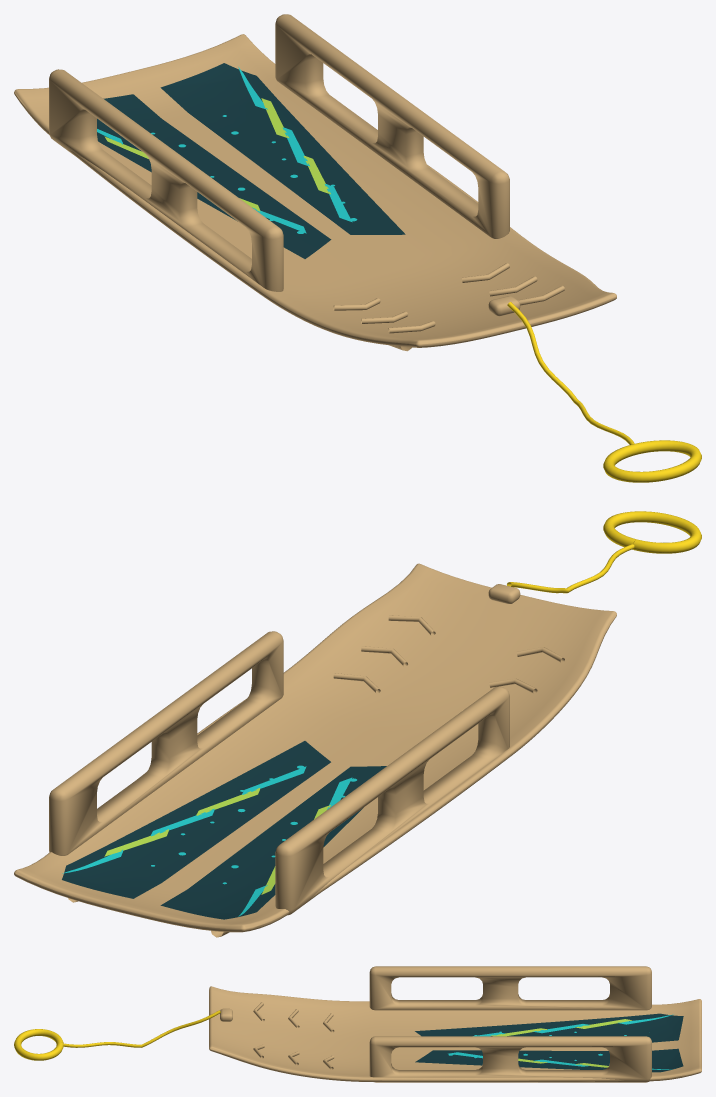
Rendered from Sled.glb.
3 renders of one model, top to bottom at view 1: azimuth 30°, elevation 25°; view 2: azimuth 150°, elevation 25°; view 3: azimuth 270°, elevation 25°, orthographic. The views are drawn at different scales.
Parts seen in each view (by area): view 1: Sled_Warm sand molded polymer, Sled_Midnight graphic, Pull handle, Sled_Turquoise ink, Tow rope, Sled_Lime ink; view 2: Sled_Warm sand molded polymer, Sled_Midnight graphic, Pull handle, Sled_Turquoise ink, Sled_Lime ink, Tow rope; view 3: Sled_Warm sand molded polymer, Sled_Midnight graphic, Pull handle, Sled_Turquoise ink, Tow rope, Sled_Lime ink.
Part boxes in pixels (x1,y1,x2,y2): Sled_Warm sand molded polymer: (14, 14, 616, 351); Sled_Midnight graphic: (97, 63, 405, 258); Pull handle: (603, 440, 701, 482); Sled_Turquoise ink: (97, 67, 357, 233); Tow rope: (507, 302, 634, 444); Sled_Lime ink: (104, 98, 330, 211); Sled_Warm sand molded polymer: (14, 563, 616, 937); Sled_Midnight graphic: (62, 741, 386, 919); Pull handle: (603, 511, 701, 553); Sled_Turquoise ink: (62, 765, 356, 916); Sled_Lime ink: (104, 788, 330, 894); Tow rope: (507, 544, 634, 593); Sled_Warm sand molded polymer: (209, 966, 701, 1082); Sled_Midnight graphic: (415, 1013, 683, 1072); Pull handle: (14, 1029, 63, 1060); Sled_Turquoise ink: (448, 1014, 673, 1069); Tow rope: (63, 1010, 220, 1047); Sled_Lime ink: (491, 1019, 632, 1067).
Size of the model in its own units: 0.4575 by 0.1505 by 1.68.
